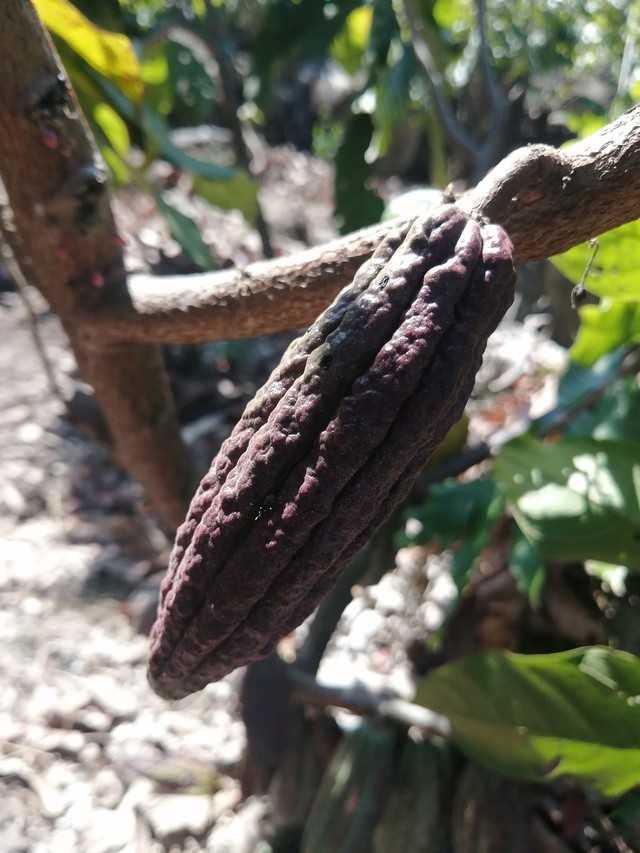Health: (133, 183, 530, 705)
